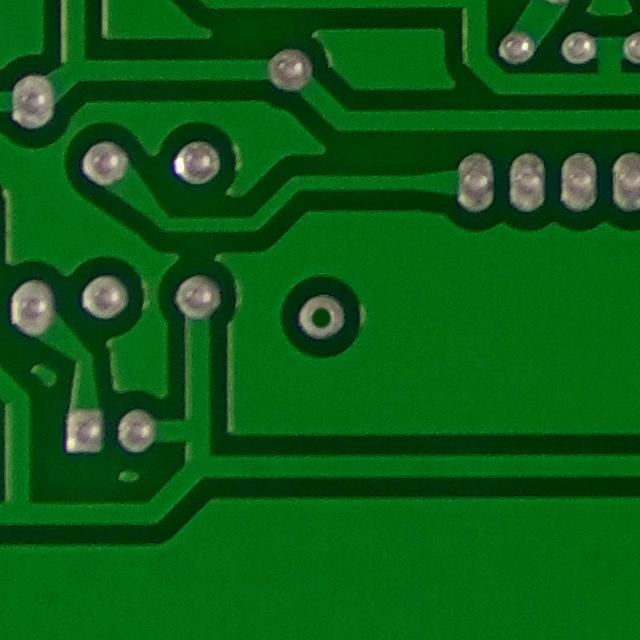missing_hole: (296, 294, 345, 345)
